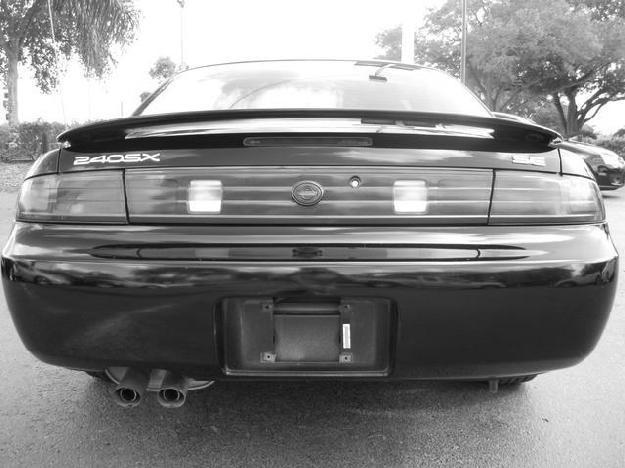car: (1, 63, 619, 411)
